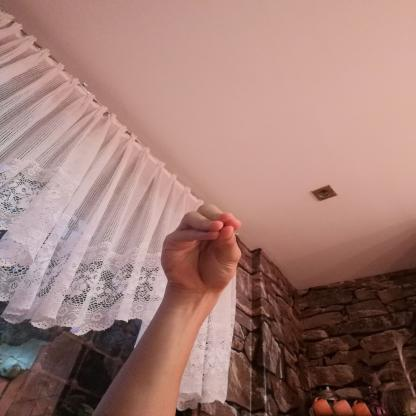HA: (146, 192, 258, 299)
